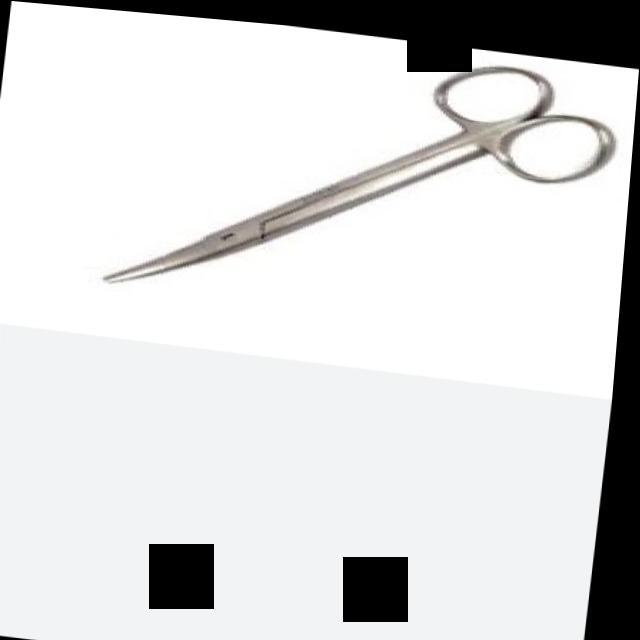Curved Mayo: (92, 13, 632, 334)
